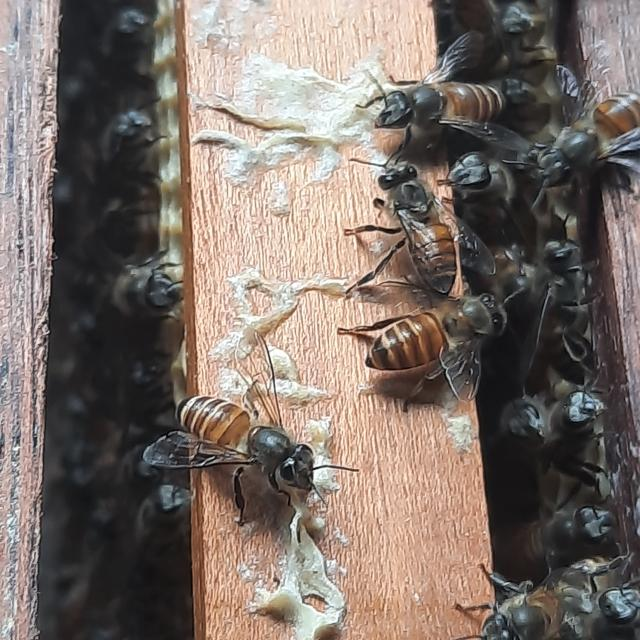honeybee: (337, 148, 493, 321), (145, 371, 322, 518), (349, 282, 497, 399), (354, 64, 520, 168), (461, 573, 623, 639), (534, 89, 640, 185), (528, 231, 604, 350), (542, 378, 614, 496), (507, 508, 621, 575), (104, 249, 199, 328), (455, 135, 522, 243), (507, 384, 563, 480), (498, 2, 566, 78), (105, 106, 171, 180), (141, 469, 195, 548), (114, 4, 164, 89)
